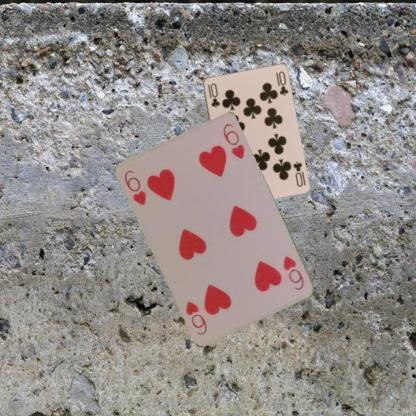10c: (205, 80, 221, 109), (290, 159, 304, 188)
6h: (122, 167, 148, 207), (280, 253, 306, 292)
